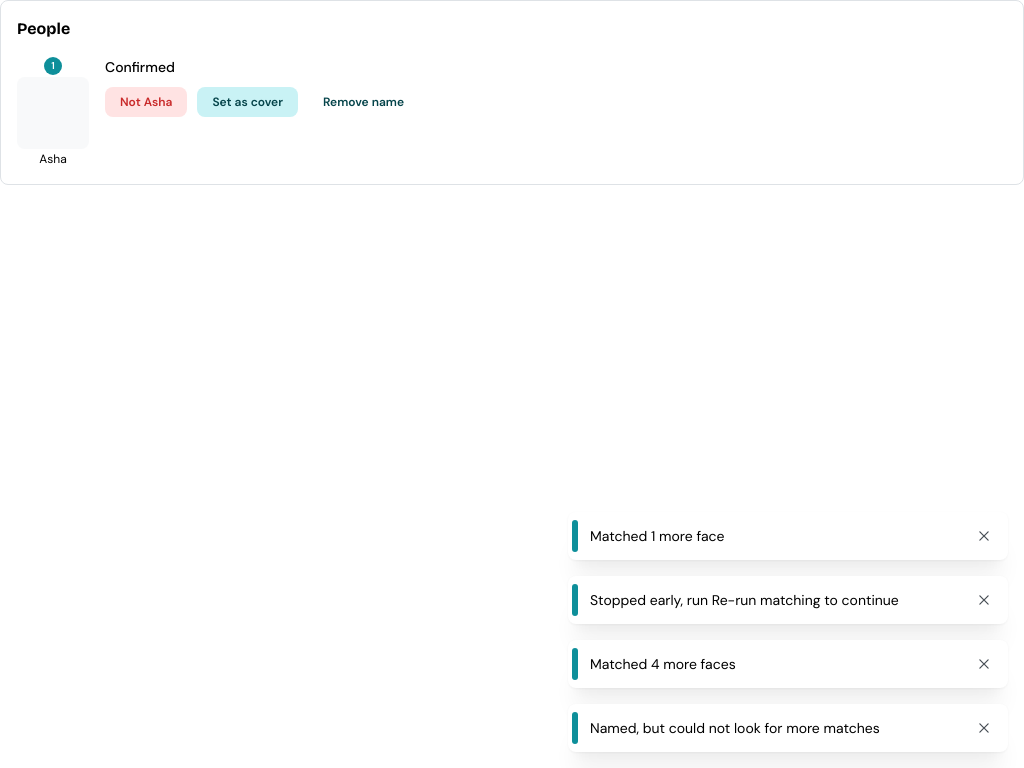
Test case: PhotoFaces › shows a neutral message when removing a name fails
Click the button "Remove name": [364, 102] box [308, 87, 419, 117]
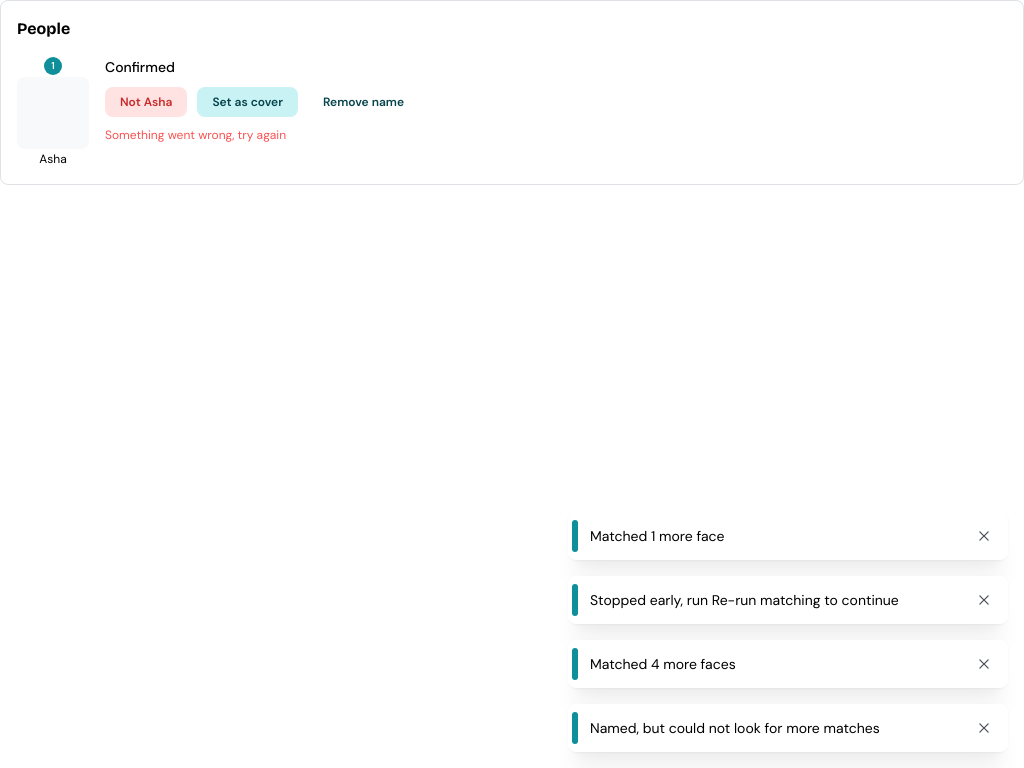
Check: the text "Something went wrong, try again" is shown, box [105, 127, 286, 143]
